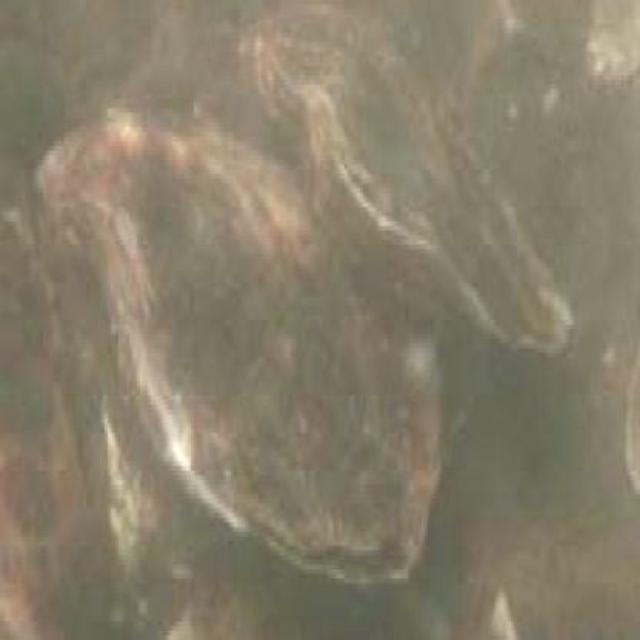Oyster-Closed: (41, 106, 449, 583), (226, 6, 579, 348)
